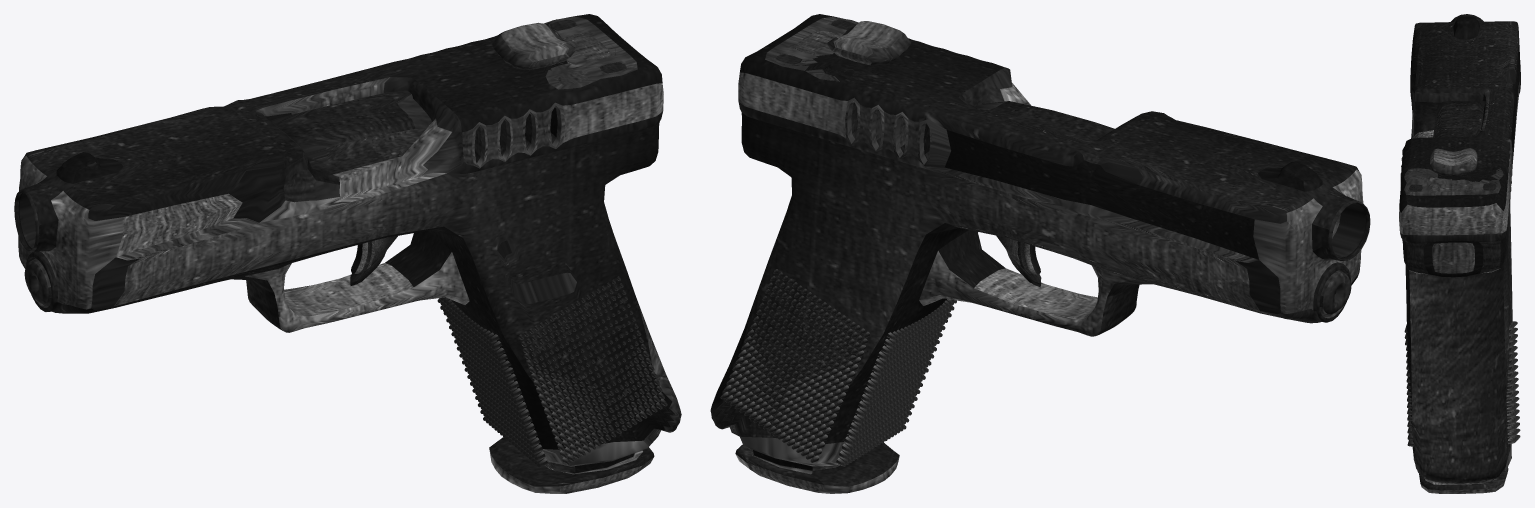
File: mayaGun.fbx
The picture shows the model from 3 angles, left to right: view 1: azimuth 30°, elevation 25°; view 2: azimuth 150°, elevation 25°; view 3: azimuth 270°, elevation 25°; orthographic projection. The views are drawn at different scales.
Parts seen in each view (by area): view 1: gunMaya; view 2: gunMaya; view 3: gunMaya.
Part boxes in pixels (x1,y1,x2,y2): gunMaya: (14, 14, 681, 493); gunMaya: (710, 14, 1370, 493); gunMaya: (1399, 14, 1520, 493).
Size of the model in its own units: 5.02 by 3.38 by 1.19.
Materials: 1 (1 with a texture image).
